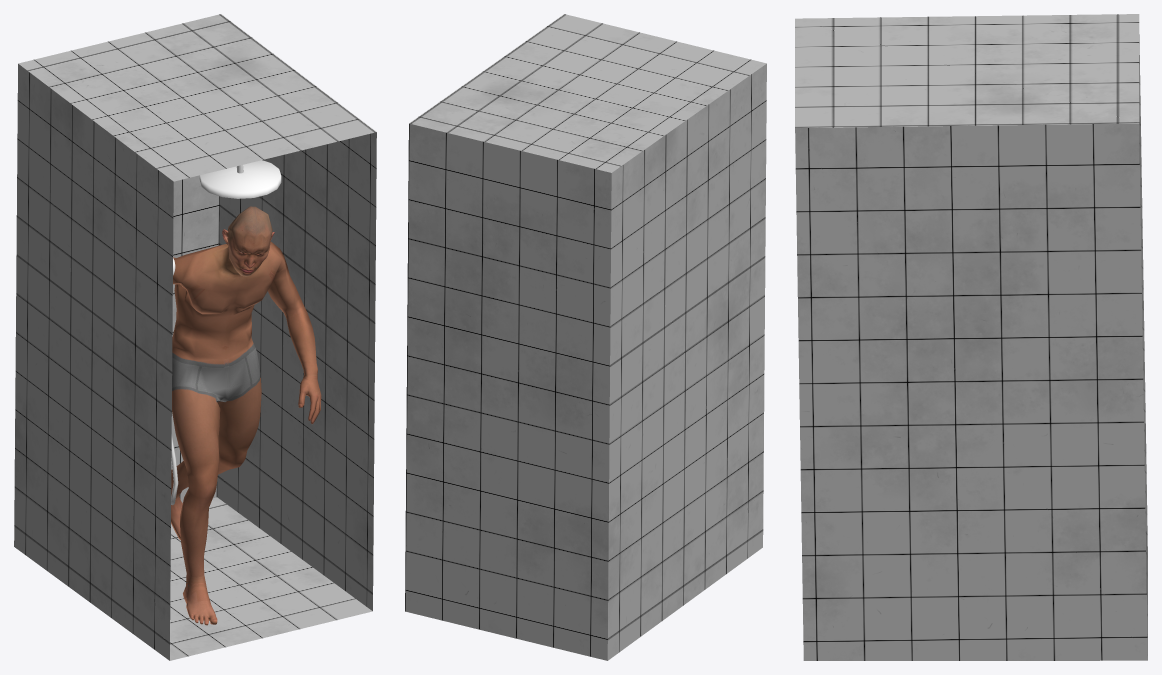
Rendered from self.glb.
The picture shows the model from 3 angles, left to right: view 1: azimuth 30°, elevation 25°; view 2: azimuth 150°, elevation 25°; view 3: azimuth 270°, elevation 25°; orthographic projection. The views are drawn at different scales.
Visible parts, largest first — view 1: LowPolySelf; view 2: LowPolySelf; view 3: LowPolySelf.
Part boxes in pixels (x1,y1,x2,y2): LowPolySelf: (14, 14, 376, 660); LowPolySelf: (405, 14, 766, 660); LowPolySelf: (795, 14, 1147, 660).
Size of the model in its own units: 2.22 by 5.08 by 3.02.
Materials: 5 (4 with a texture image).
